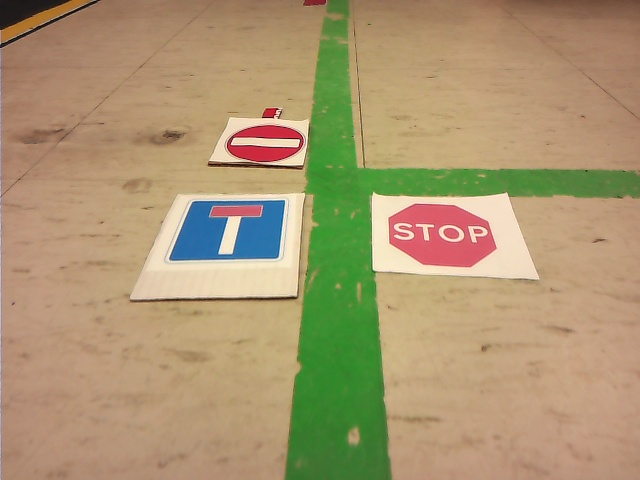DEAD END: (168, 201, 285, 261)
NO ENTRY: (226, 124, 304, 162)
STOP: (389, 203, 496, 267)
